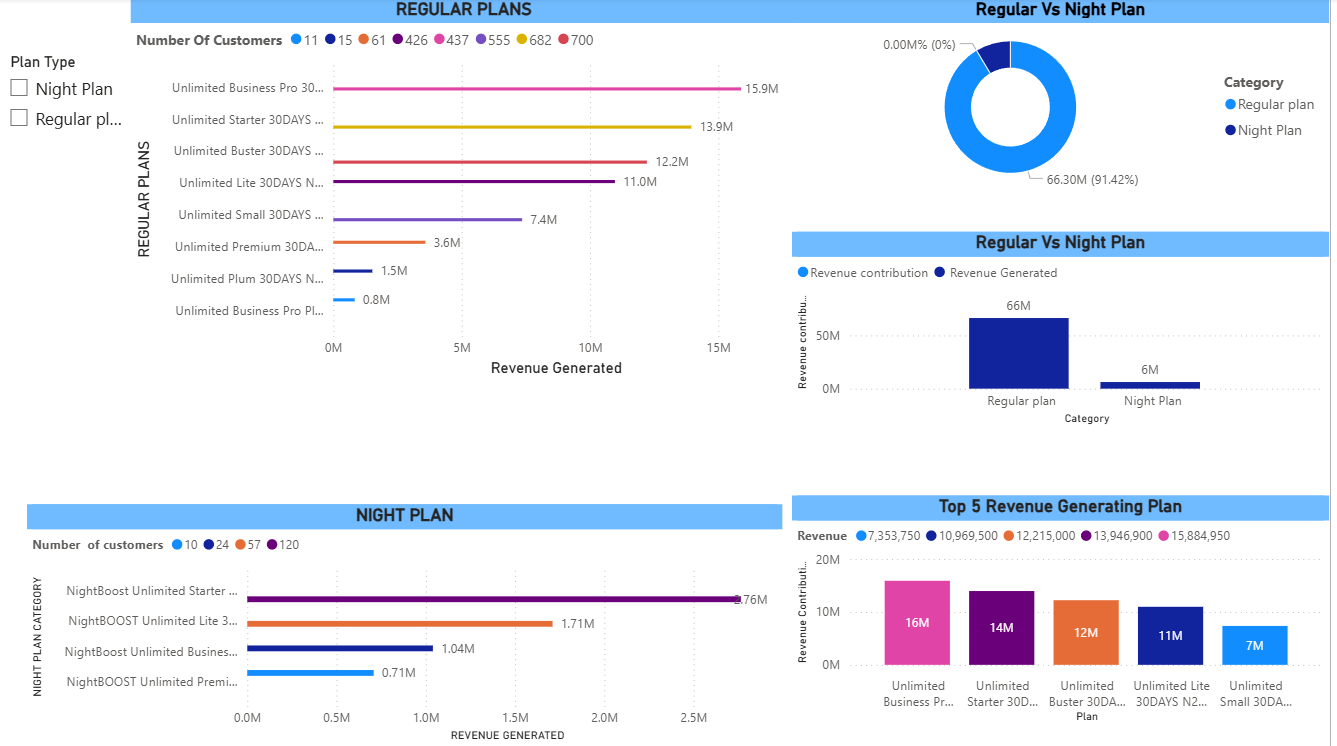

This screenshot's page, from the dashboard's own definition file:
{"tool":"powerbi","page":{"name":"Revenue Analysis","canvas":[1280,720],"ordinal":2},"visuals":[{"type":"clusteredBarChart","title":"REGULAR PLANS","fields":{"Category":["REGULAR PLAN.REGULAR PLANS"],"Y":["Sum(REGULAR PLAN.Revenue Generated)"],"Series":["REGULAR PLAN.No. Of Customers"]},"box":[128,0,640,368],"z":0},{"type":"clusteredBarChart","title":"NIGHT PLAN ","fields":{"Category":["NIGHT PLANS.NIGHT PLAN CATEGORY"],"Y":["Sum(NIGHT PLANS.REVENUE GENERATED)"],"Series":["NIGHT PLANS.No. of customers"]},"box":[28.8,486.7,725.9,233.3],"z":1000},{"type":"donutChart","title":"  Regular Vs Night Plan","fields":{"Y":["Sum(SUBCRIPTION CATE.Revenue generated )","Sum(SUBCRIPTION CATE.% Contibution )"],"Category":["SUBCRIPTION CATE.Category "]},"box":[764,0,516,190.7],"z":2000},{"type":"columnChart","title":"Regular Vs Night Plan ","fields":{"Y":["Sum(SUBCRIPTION CATE.% Contibution )","Sum(SUBCRIPTION CATE.Revenue generated )"],"Category":["SUBCRIPTION CATE.Category "]},"box":[764,225,516,190.7],"z":3000},{"type":"columnChart","title":"Top 5 Revenue Generating Plan","fields":{"Category":["TOP BEST PERFORMING PLAN.Plan"],"Y":["Sum(TOP BEST PERFORMING PLAN.Revenue)"],"Series":["TOP BEST PERFORMING PLAN.Revenue"]},"box":[764,477.5,516,223.7],"z":4000},{"type":"slicer","fields":{"Values":["SUBCRIPTION CATE.Category "]},"box":[0,48,128,192],"z":5000}]}

Visuals, with their boxes in screenshot pixels (x1, y1, x2, y2), scaled from the page's 1280x720 canvas onto the 1337x746 screenshot:
"REGULAR PLANS" clusteredBarChart: 134:0:802:381
"NIGHT PLAN " clusteredBarChart: 30:504:788:745
"  Regular Vs Night Plan" donutChart: 798:0:1336:198
"Regular Vs Night Plan " columnChart: 798:233:1336:431
"Top 5 Revenue Generating Plan" columnChart: 798:495:1336:727
slicer - SUBCRIPTION CATE.Category : 0:50:134:249
